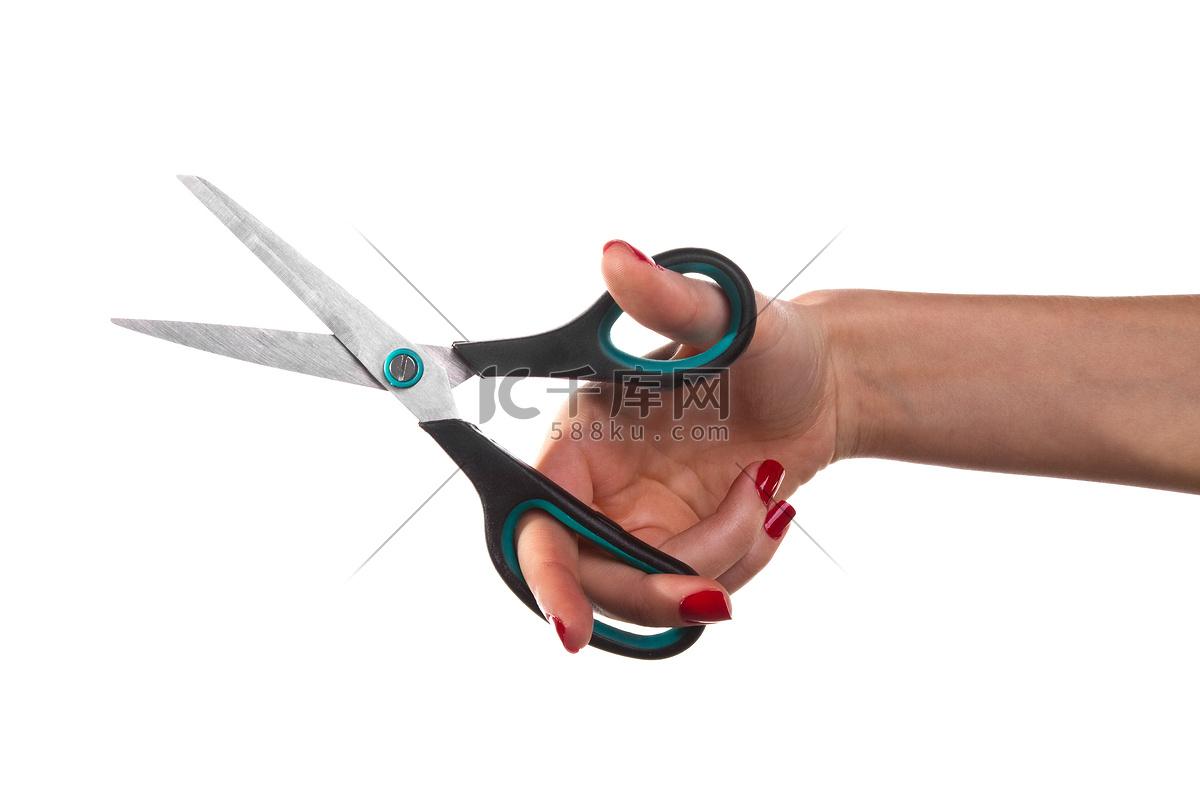scissors: (95, 170, 758, 664)
